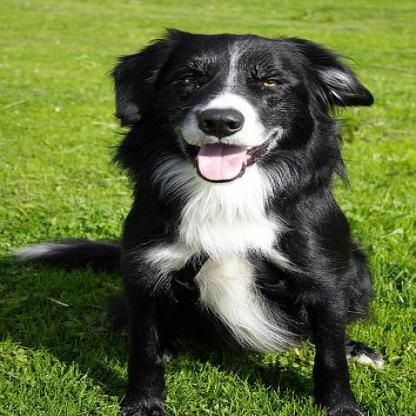collie: (5, 26, 375, 413)
